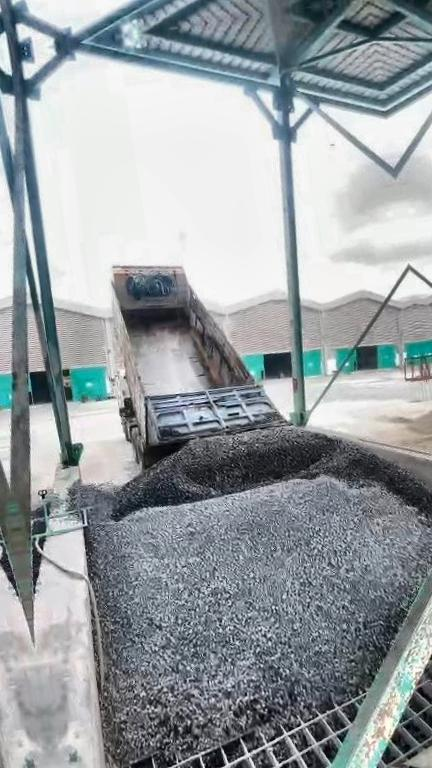gravel: (66, 475, 432, 765), (112, 426, 432, 521)
sand: (386, 410, 432, 452)
